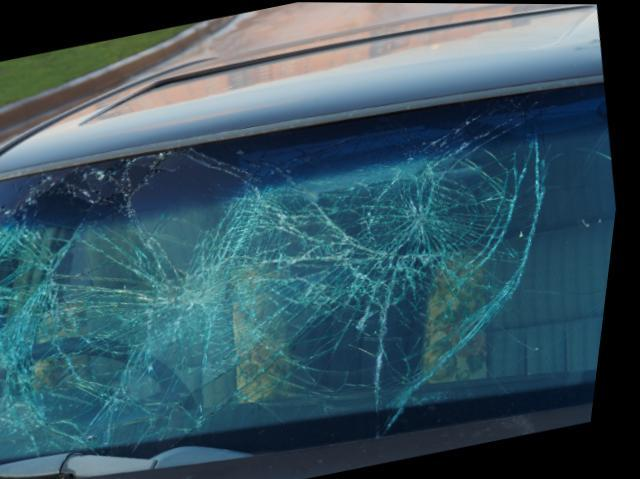glass shatter: (0, 83, 621, 463)
